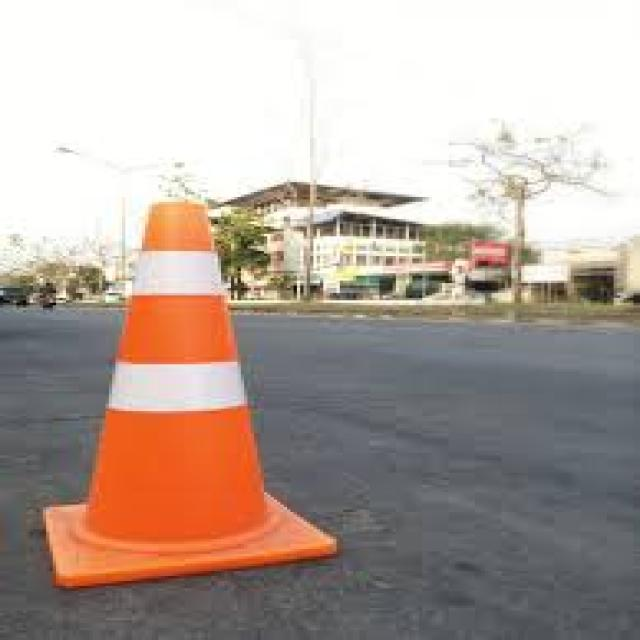Traffic Cone: (38, 125, 368, 608)
